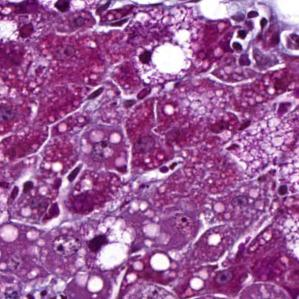ballooning: (251, 94, 299, 176)
